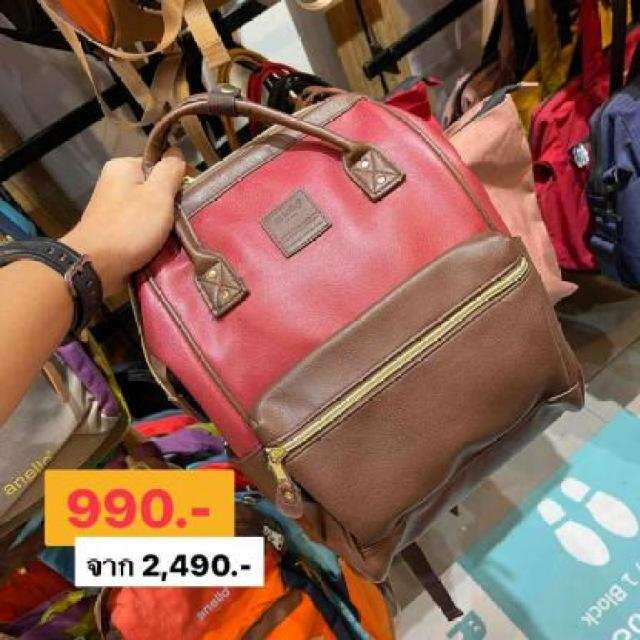Bag: (100, 52, 614, 583)
